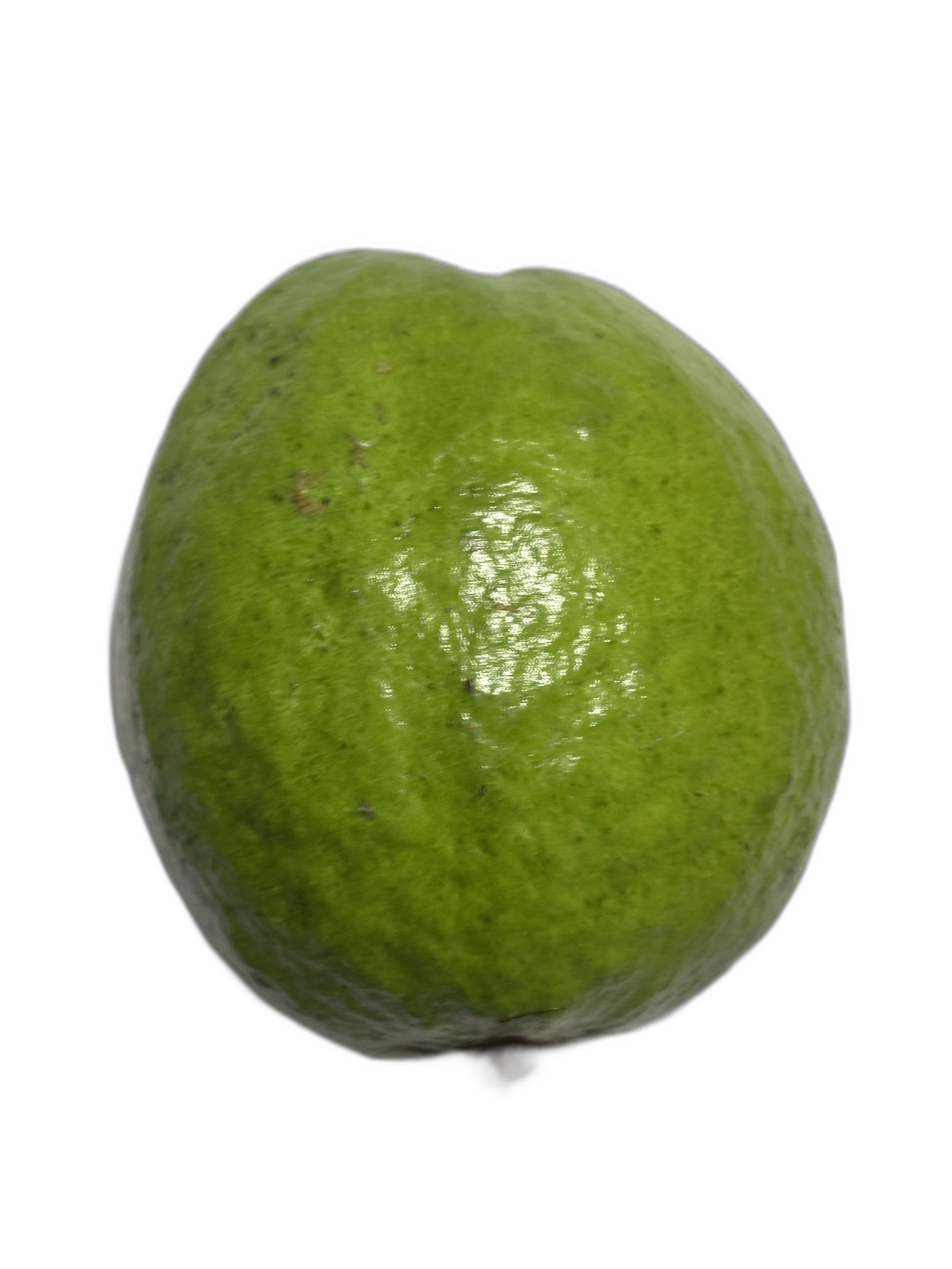guava: (253, 250, 867, 1228)
